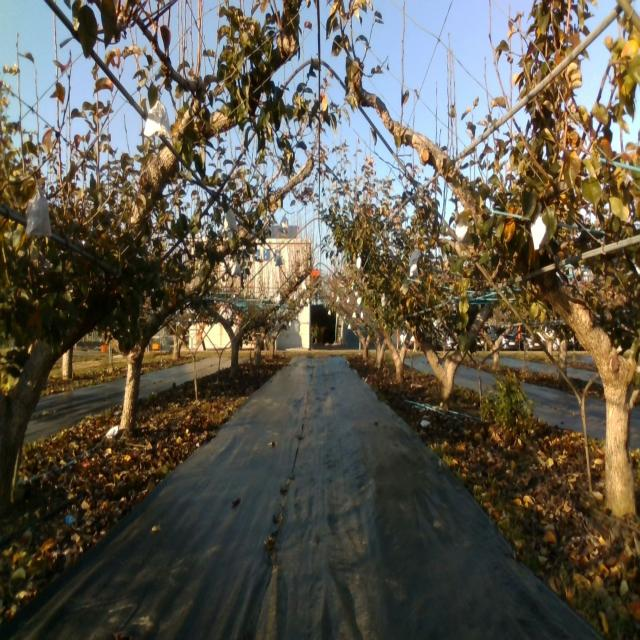pearbags: (26, 185, 52, 238), (143, 98, 172, 140), (530, 212, 548, 251), (222, 208, 238, 234), (455, 219, 468, 245), (280, 214, 290, 234)
